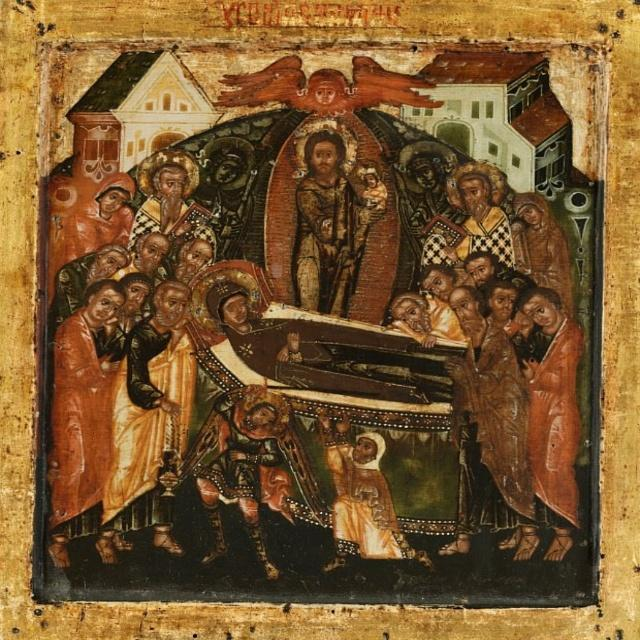angel: (178, 370, 312, 594)
aura: (195, 266, 260, 329), (293, 116, 356, 179), (396, 136, 455, 197), (206, 131, 257, 188), (446, 164, 508, 210), (241, 385, 290, 430)
book: (423, 216, 472, 252), (173, 206, 212, 238)
christ: (295, 115, 361, 312)
christ_face: (306, 129, 341, 172)
mary: (209, 290, 467, 411)
person: (94, 281, 191, 563), (38, 281, 124, 574), (315, 403, 436, 587), (449, 283, 529, 558), (521, 286, 582, 561), (62, 166, 135, 251), (384, 296, 459, 331)
saint: (442, 162, 511, 257), (132, 148, 203, 239)
smoker: (159, 456, 182, 498)
